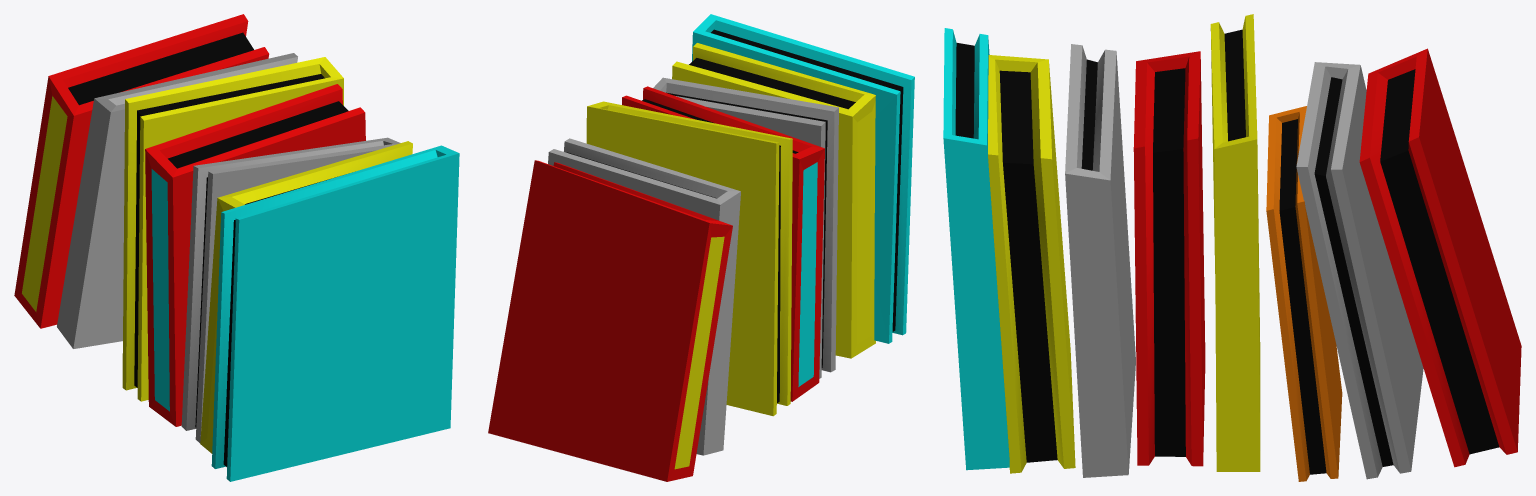
Rendered from Books_2.fbx.
The picture shows the model from 3 angles, left to right: view 1: azimuth 30°, elevation 25°; view 2: azimuth 150°, elevation 25°; view 3: azimuth 270°, elevation 25°; orthographic projection. The views are drawn at different scales.
Parts seen in each view (by area): view 1: Books_2; view 2: Books_2; view 3: Books_2.
Boxes of the visible parts, x1,y1,x2,y2 form: Books_2: (14,14,459,481); Books_2: (488,14,914,481); Books_2: (943,14,1521,481).
Bounding box in the file's own units: 27.81 × 35.66 × 52.91.
